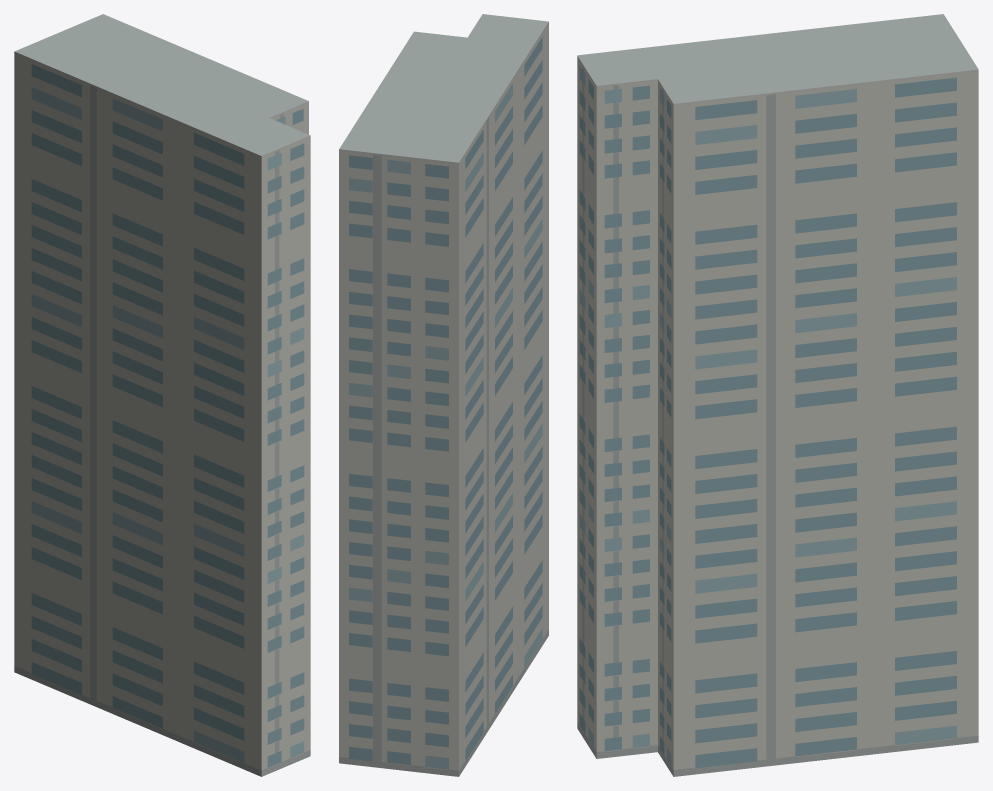
Rendered from residential-c6fddb35-c001-40c2-a8a7-432d223b4cb0.glb.
3 views of the same model, side by side, from view 1: azimuth 30°, elevation 25°; view 2: azimuth 150°, elevation 25°; view 3: azimuth 270°, elevation 25° (orthographic). The views are drawn at different scales.
Parts seen in each view (by area): view 1: residential-c6fddb35-c001-40c2-a8a7-432d223b4cb0.tmp; view 2: residential-c6fddb35-c001-40c2-a8a7-432d223b4cb0.tmp; view 3: residential-c6fddb35-c001-40c2-a8a7-432d223b4cb0.tmp.
Boxes of the visible parts, x1,y1,x2,y2 form: residential-c6fddb35-c001-40c2-a8a7-432d223b4cb0.tmp: (14,14,310,776); residential-c6fddb35-c001-40c2-a8a7-432d223b4cb0.tmp: (339,14,548,776); residential-c6fddb35-c001-40c2-a8a7-432d223b4cb0.tmp: (577,14,978,776).
Bounding box in the file's own units: 25.81 × 90 × 48.67.
